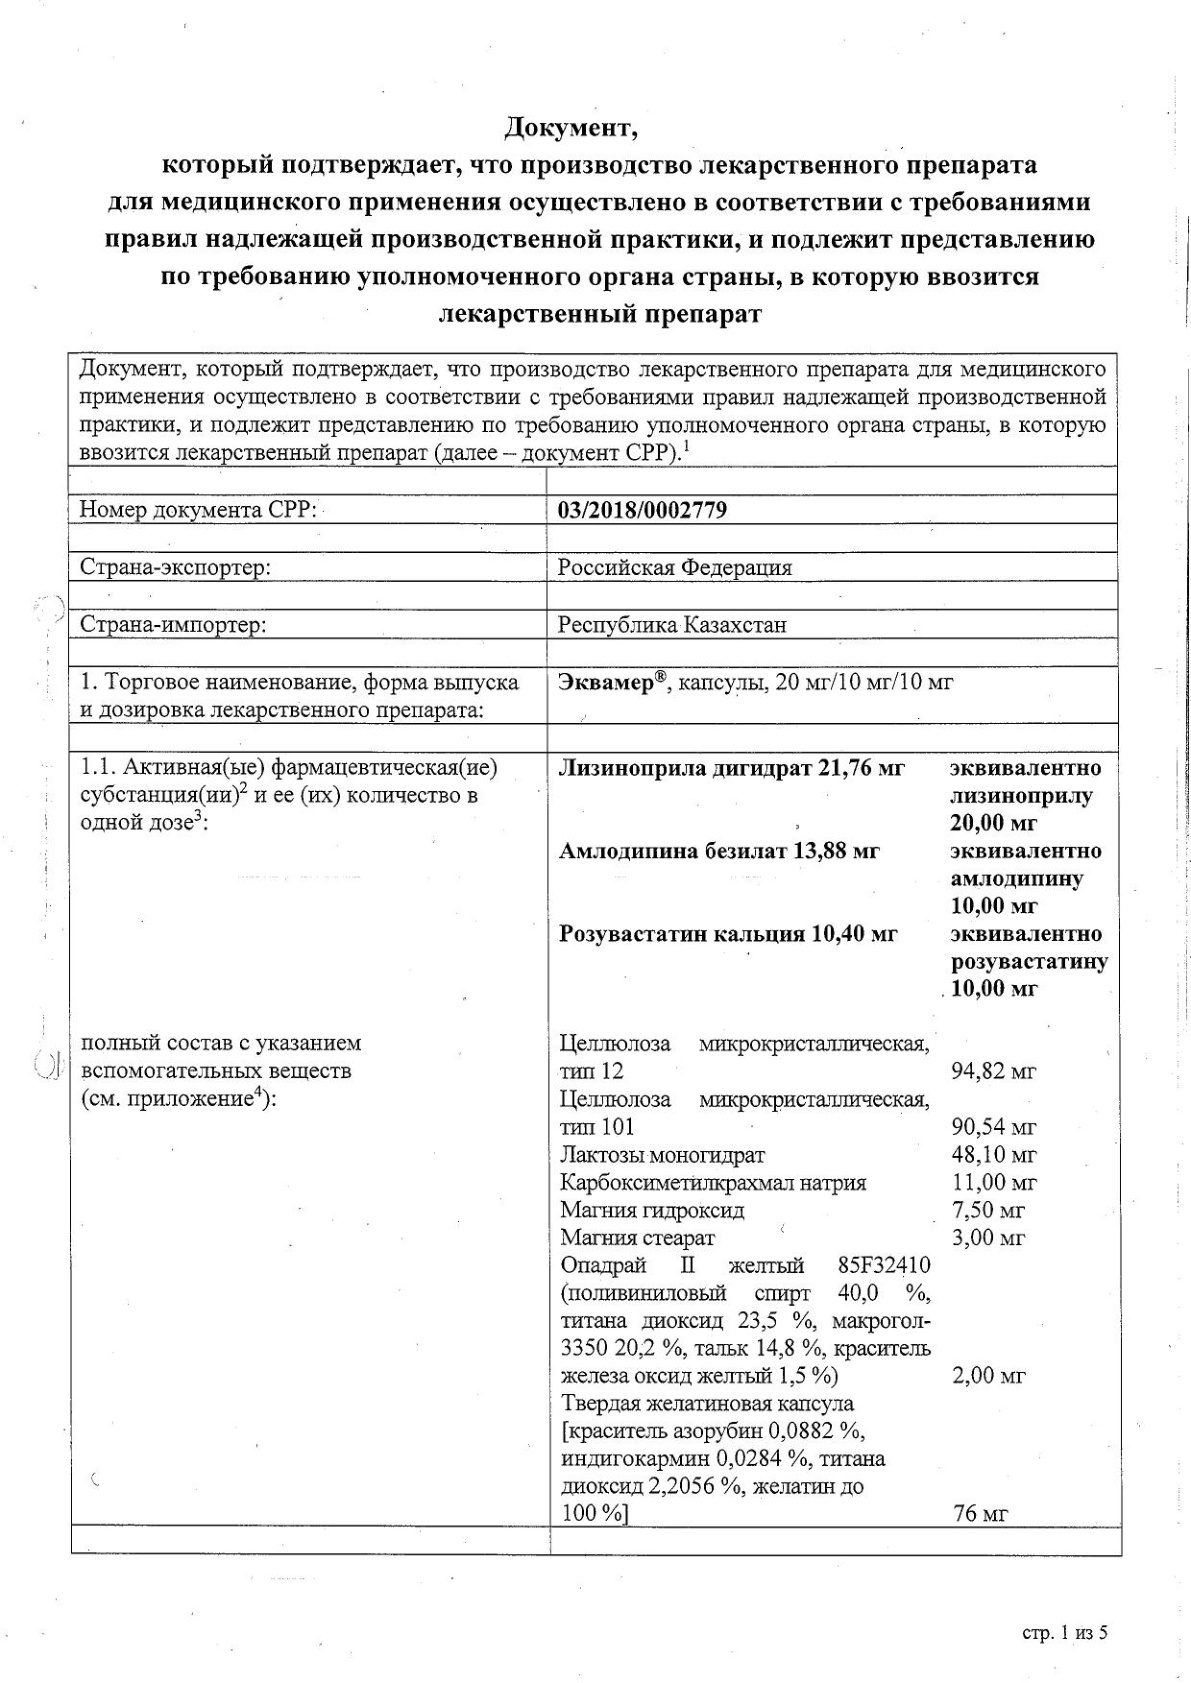merged_cells: (66, 349, 1123, 1558)
